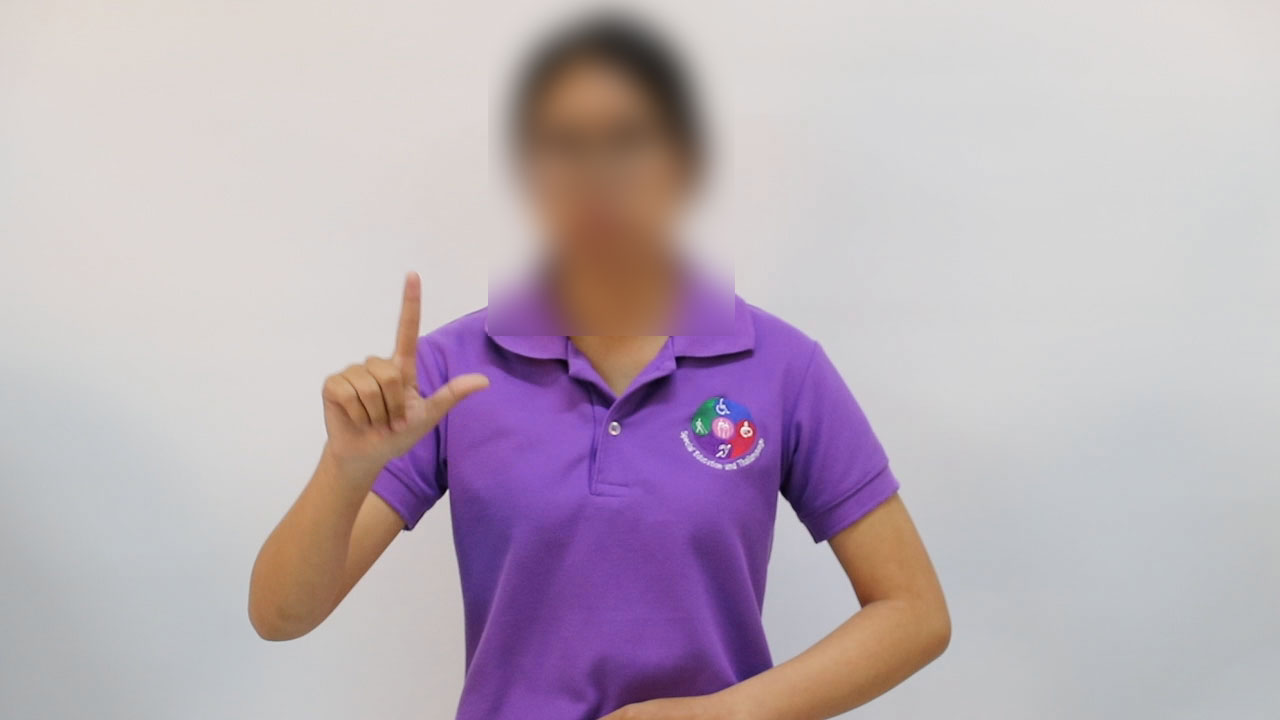lor: (308, 263, 507, 488)
